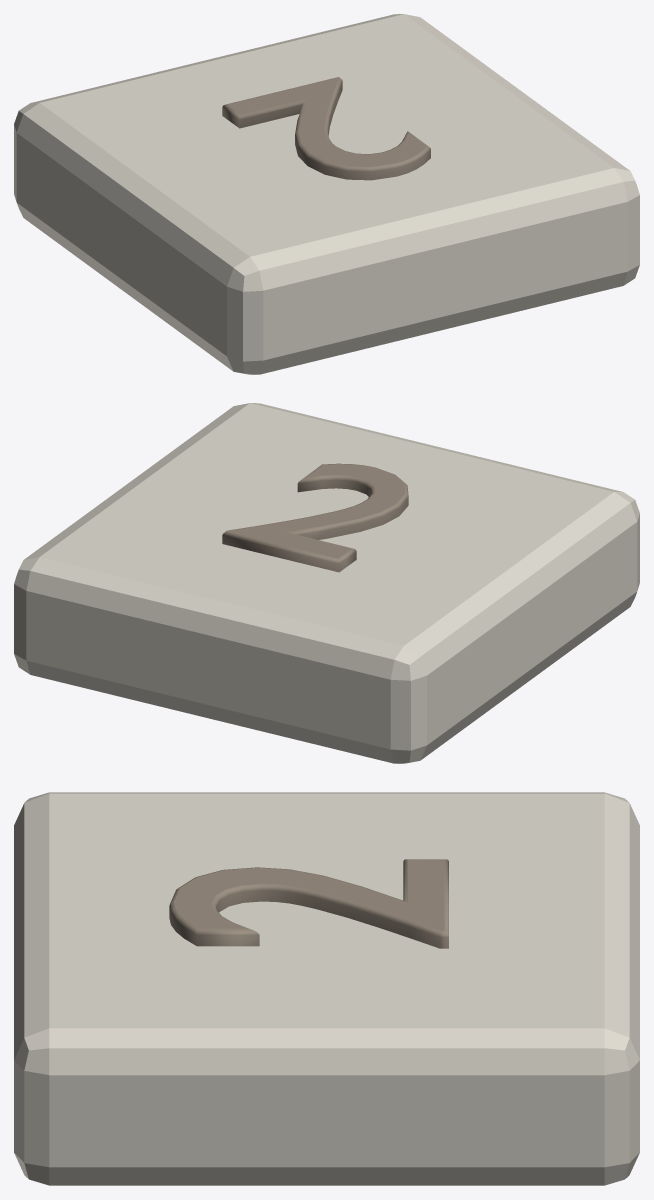
The model's file is Tile_2.fbx.
The picture shows the model from 3 angles, top to bottom: view 1: azimuth 30°, elevation 25°; view 2: azimuth 150°, elevation 25°; view 3: azimuth 270°, elevation 25°; orthographic projection. The views are drawn at different scales.
Visible parts, largest first — view 1: Tile_2; view 2: Tile_2; view 3: Tile_2.
Part boxes in pixels (x1=…): Tile_2: x1=14, y1=14, x2=639, y2=374; Tile_2: x1=14, y1=403, x2=639, y2=763; Tile_2: x1=14, y1=792, x2=639, y2=1185.
Bounding box in the file's own units: 80 × 24.2 × 80.
